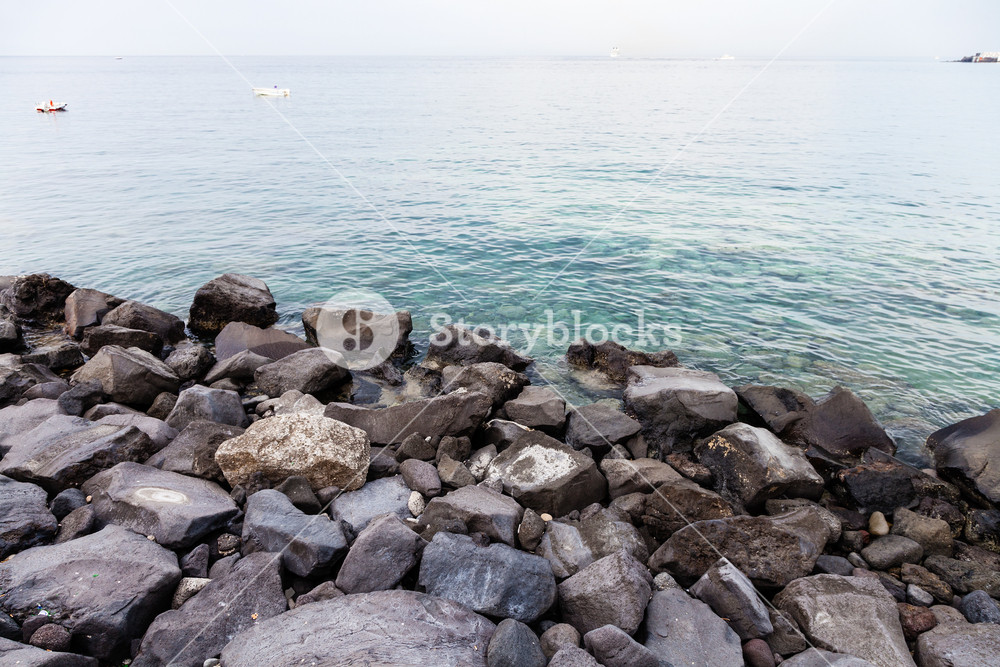volcanic_rock: (1, 511, 185, 637), (406, 514, 564, 629), (62, 337, 182, 416), (157, 391, 249, 442)
